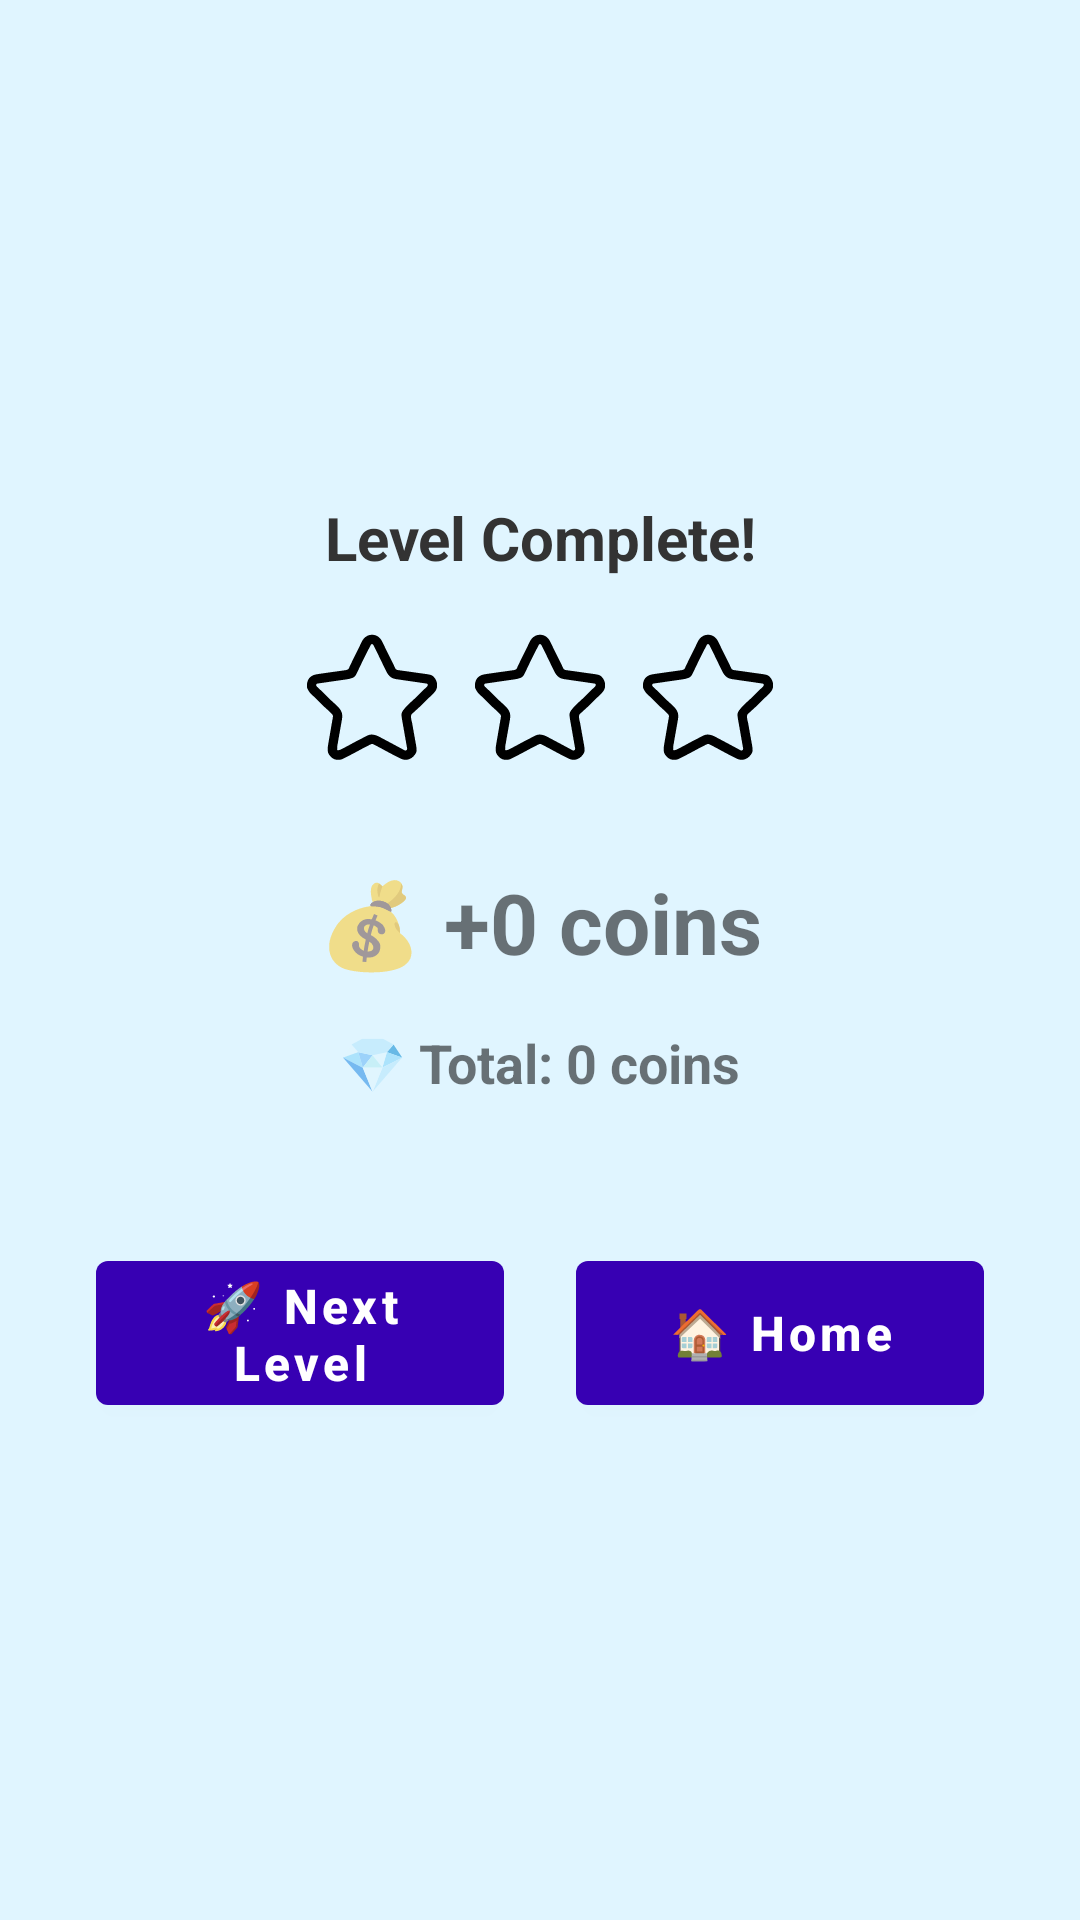

Icons on this 1080px×1920px Android screen, each with its box as (x1, y1, x2, y2):
Star 1: (307, 634, 437, 760)
Star 2: (475, 634, 605, 760)
Star 3: (643, 634, 773, 760)
